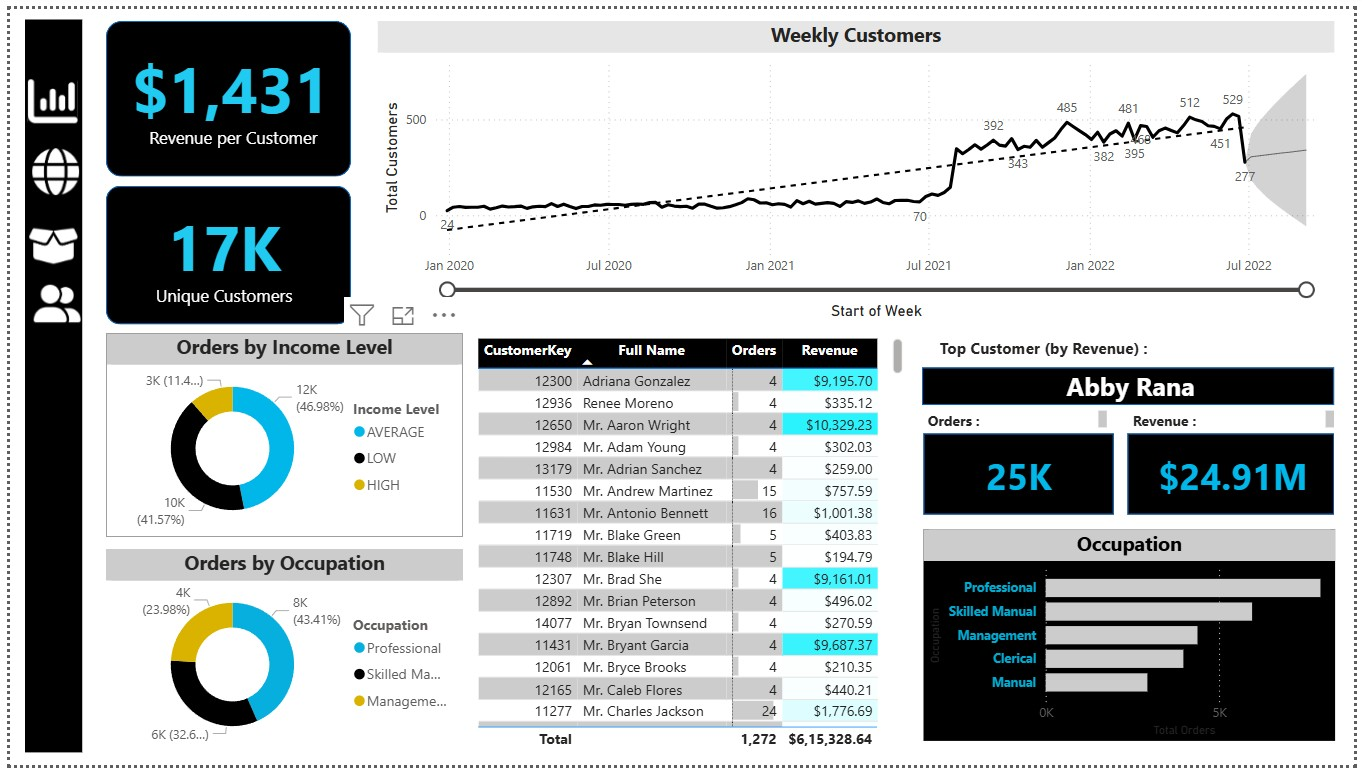

What the dashboard file says about the page in this screenshot:
{"tool":"powerbi","page":{"name":"Customer Details","canvas":[1280,720],"ordinal":3},"visuals":[{"type":"shape","box":[13.6,10.6,54.5,698],"z":0},{"type":"shape","box":[91.9,11,233.3,148.2],"z":1000},{"type":"actionButton","box":[12.9,60,61.4,55.7],"z":1000,"group":"g1"},{"type":"shape","box":[91.9,168.8,233.3,131.7],"z":2000},{"type":"actionButton","box":[14.6,198.6,64.3,54.3],"z":2000,"group":"g1"},{"type":"card","fields":{"Values":["Measure Table.Total Customers"]},"box":[81,168.8,244.3,130.4],"z":3000},{"type":"actionButton","box":[18.2,251.4,52.9,58.6],"z":3000,"group":"g1"},{"type":"card","fields":{"Values":["Measure Table.Average Revenue per Customer"]},"box":[96.1,11,229.2,144.1],"z":4000},{"type":"actionButton","box":[16.8,128.5,60,52.9],"z":4000,"group":"g1"},{"type":"lineChart","title":"Weekly Customers","fields":{"Category":["Calendar Lookup.Date Hierarchy.Start of Week"],"Y":["Measure Table.Total Customers"]},"box":[349.9,11,911.2,288.2],"z":5000},{"type":"tableEx","fields":{"Values":["Customer Lookup.CustomerKey","Customer Lookup.Full Name","Measure Table.Total Orders","Measure Table.Total Revenue"]},"box":[440.7,308,414.9,400.8],"z":6000},{"type":"donutChart","title":"Orders by Income Level","fields":{"Y":["Measure Table.Total Orders"],"Category":["Customer Lookup.Income Level"]},"box":[91.5,308,340.2,194.6],"z":7000},{"type":"donutChart","title":"Orders by Occupation","fields":{"Y":["Measure Table.Total Orders"],"Category":["Customer Lookup.Occupation"]},"box":[91.5,514.2,340.2,194.6],"z":8000},{"type":"shape","box":[869.4,404.8,181.1,77.2],"z":9000},{"type":"shape","box":[1064.8,404.8,196.9,77.2],"z":10000},{"type":"shape","box":[868.7,341.7,392.5,35.7],"z":11000},{"type":"card","fields":{"Values":["Measure Table.Total Orders"]},"box":[877.3,411.1,167,66.2],"z":12000},{"type":"card","fields":{"Values":["Measure Table.Total Revenue"]},"box":[1083.7,392.2,160.7,104],"z":13000},{"type":"card","fields":{"Values":["Min(Customer Lookup.Customer Full Name (CC))"]},"box":[892,337.6,344.5,45.3],"z":14000},{"type":"textbox","box":[868.7,307.4,231.9,30.2],"z":15000},{"type":"textbox","box":[868.7,377.4,181.1,26.1],"z":16000},{"type":"textbox","box":[1064.9,377.4,201.7,26.1],"z":17000},{"type":"group","id":"g1","title":"Buttons","box":[12.9,60,65.7,250],"z":18000},{"type":"clusteredBarChart","title":"Occupation","fields":{"Y":["Measure Table.Total Orders"],"Category":["Customer Lookup.Occupation"]},"box":[869.4,496.2,392.2,201.6],"z":19000}]}

Visuals, with their boxes in screenshot pixels (x1, y1, x2, y2), scaled from the page's 1280x720 canvas onto the 1362x773 screenshot:
shape: [14, 11, 72, 761]
shape: [98, 12, 346, 171]
actionButton: [14, 64, 79, 124]
shape: [98, 181, 346, 323]
actionButton: [16, 213, 84, 272]
card - Measure Table.Total Customers: [86, 181, 346, 321]
actionButton: [19, 270, 76, 333]
card - Measure Table.Average Revenue per Customer: [102, 12, 346, 167]
actionButton: [18, 138, 82, 195]
"Weekly Customers" lineChart: [372, 12, 1342, 321]
tableEx - Customer Lookup.CustomerKey x Customer Lookup.Full Name: [469, 331, 910, 761]
"Orders by Income Level" donutChart: [97, 331, 459, 540]
"Orders by Occupation" donutChart: [97, 552, 459, 761]
shape: [925, 435, 1118, 517]
shape: [1133, 435, 1343, 517]
shape: [924, 367, 1342, 405]
card - Measure Table.Total Orders: [934, 441, 1111, 512]
card - Measure Table.Total Revenue: [1153, 421, 1324, 533]
card - Min(Customer Lookup.Customer Full Name (CC)): [949, 362, 1316, 411]
textbox: [924, 330, 1171, 362]
textbox: [924, 405, 1117, 433]
textbox: [1133, 405, 1348, 433]
"Buttons" group: [14, 64, 84, 333]
"Occupation" clusteredBarChart: [925, 533, 1342, 749]
